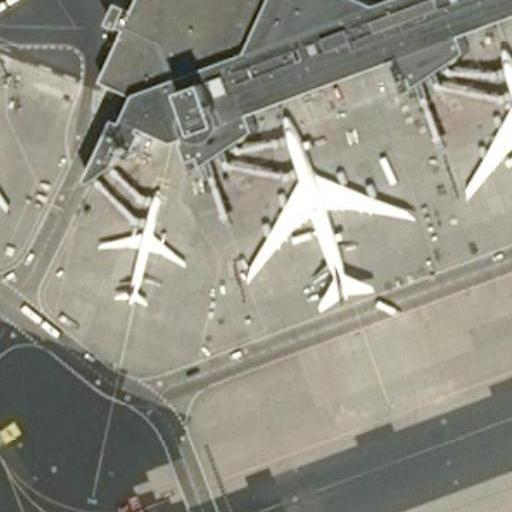Aircraft: (234, 114, 418, 315), (95, 191, 190, 306), (458, 50, 512, 237)
